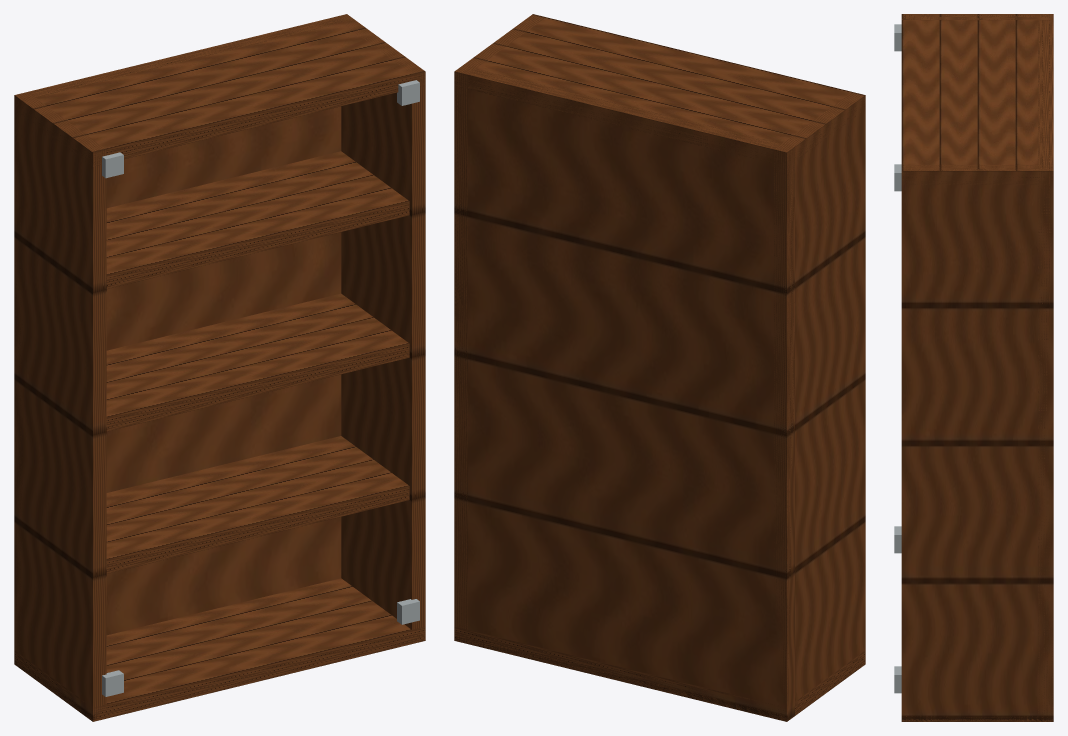
Rendered from rural-scavenging-settlements-pantry-open-cabinet-76b29a50__26559.glb.
3 renders of one model, left to right at view 1: azimuth 30°, elevation 25°; view 2: azimuth 150°, elevation 25°; view 3: azimuth 270°, elevation 25°, orthographic. The views are drawn at different scales.
Visible parts, largest first — view 1: pantry-open-cabinet; view 2: pantry-open-cabinet; view 3: pantry-open-cabinet.
Part boxes in pixels (x1,y1,x2,y2): pantry-open-cabinet: [14, 14, 425, 721]; pantry-open-cabinet: [454, 14, 865, 721]; pantry-open-cabinet: [894, 14, 1053, 721].
Size of the model in its own units: 1.1 by 1.8 by 0.471.
Materials: 2 (1 with a texture image).
